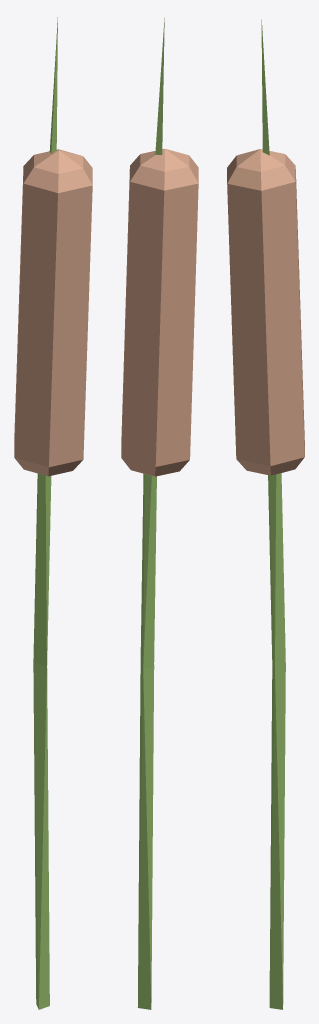
Rendered from Prop_Cattail_2.gltf.
3 views of the same model, side by side, from view 1: azimuth 90°, elevation 25°; view 2: azimuth 150°, elevation 25°; view 3: azimuth 270°, elevation 25° (orthographic).
Visible parts, largest first — view 1: object4, object2, object3, object1; view 2: object4, object2, object3, object1; view 3: object4, object2, object3, object1.
Part boxes in pixels (left/top/right/bottom): object4: left=14, top=149, right=92, bottom=476; object2: left=33, top=662, right=49, bottom=1009; object3: left=33, top=473, right=51, bottom=666; object1: left=49, top=17, right=57, bottom=153; object4: left=121, top=148, right=198, bottom=476; object2: left=137, top=663, right=154, bottom=1009; object3: left=140, top=473, right=156, bottom=668; object1: left=155, top=18, right=164, bottom=154; object4: left=227, top=149, right=304, bottom=475; object2: left=269, top=665, right=285, bottom=1009; object3: left=268, top=473, right=285, bottom=668; object1: left=261, top=19, right=269, bottom=155.
Bounding box in the file's own units: 0.0737 × 0.9584 × 0.0683.
